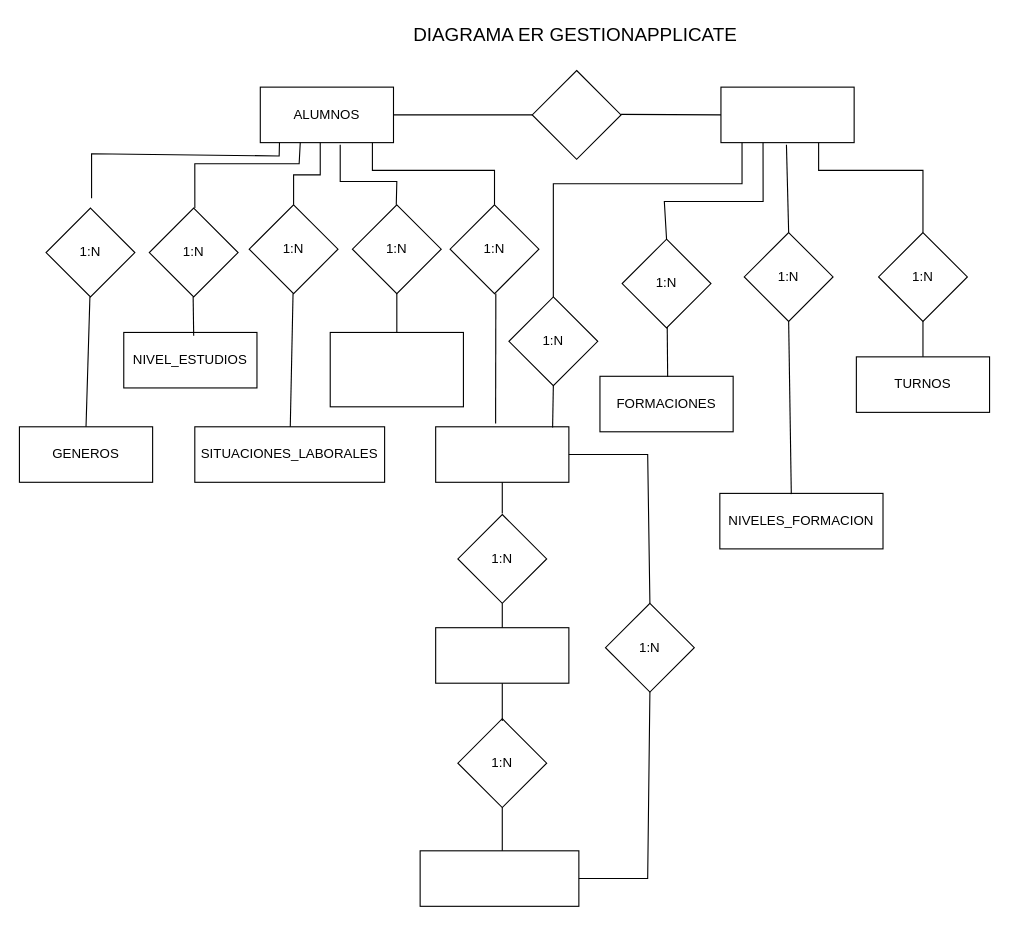
The diagram is 1009 pixels wide and 926 high, and some of its shapes have lost their labels. Here are the shapes that lost their labels. From the top down, the centre of each, then its label:
At point 576,114: "N:M".
At point 787,114: "CURSOS".
At point 396,369: "COMO_ NOS_ HAS_ ENCONTRADO".
At point 502,454: "MUNICIPIOS".
At point 502,655: "PEDANIAS".
At point 499,878: "CODIGOS_POSTALES".
